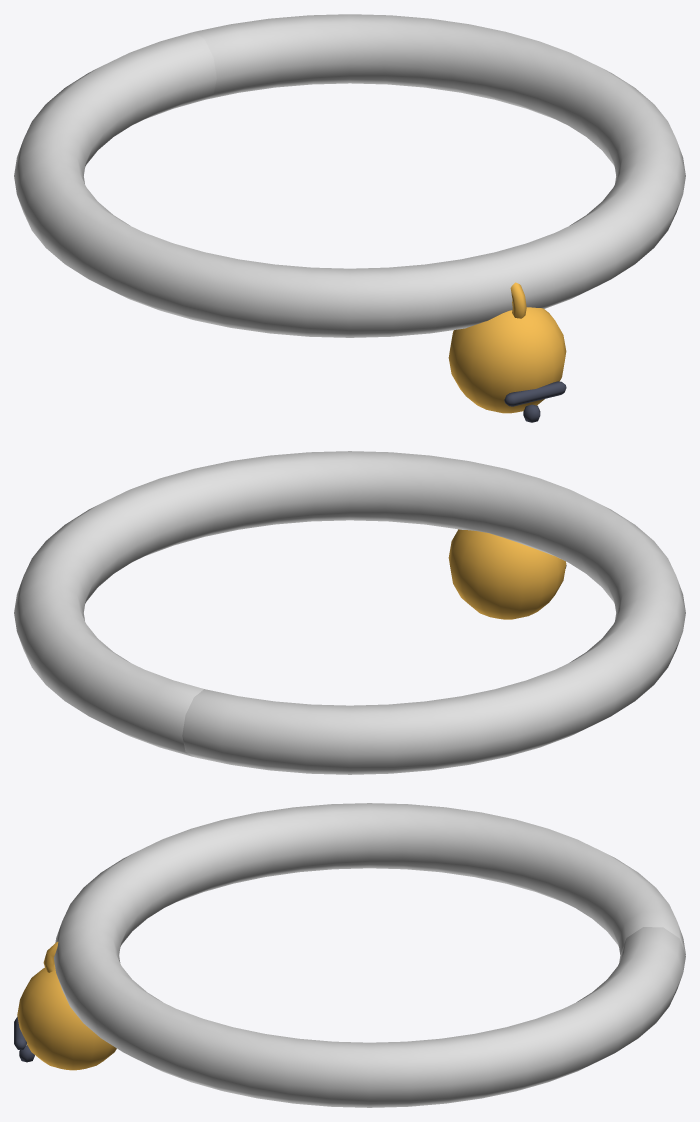
File: bell_collar.glb
3 renders of one model, top to bottom at view 1: azimuth 30°, elevation 25°; view 2: azimuth 150°, elevation 25°; view 3: azimuth 270°, elevation 25°, orthographic. The views are drawn at different scales.
Parts seen in each view (by area): view 1: bell_collar; view 2: bell_collar; view 3: bell_collar.
Part boxes in pixels (<box>): bell_collar: <box>14,14,685,422</box>; bell_collar: <box>14,451,685,774</box>; bell_collar: <box>14,803,685,1107</box>.
Size of the model in its own units: 0.9627 by 0.2326 by 1.02.
